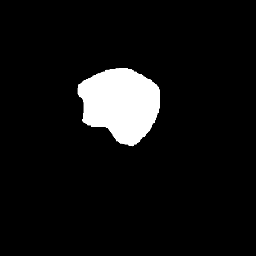mass: (68, 64, 153, 141)
